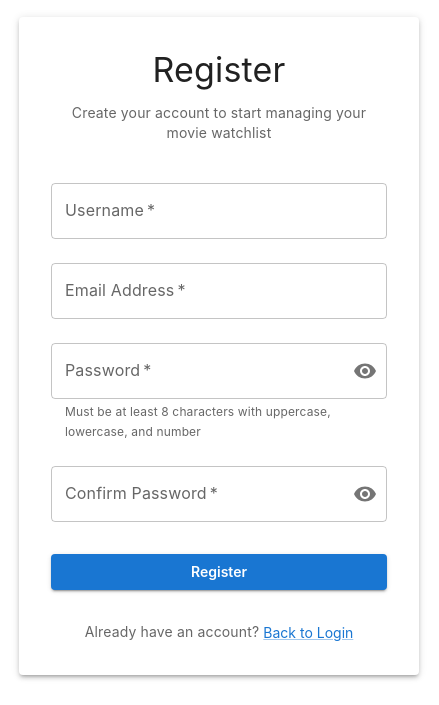
Test case: RegisterForm › should show validation error when passwords do not match
The image size is (439, 705).
Type "newuser" into the field labelled "Username *" at (219, 211), box [51,183,387,239]
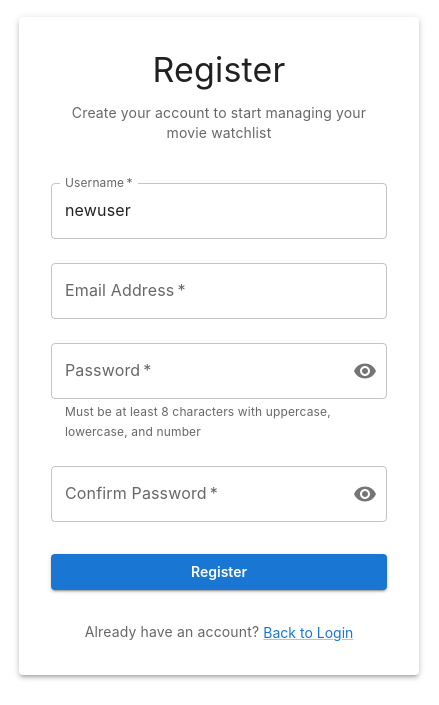
Type "newuser@example.com" into the field labelled "Email Address *" at (219, 291), box [51,263,387,319]
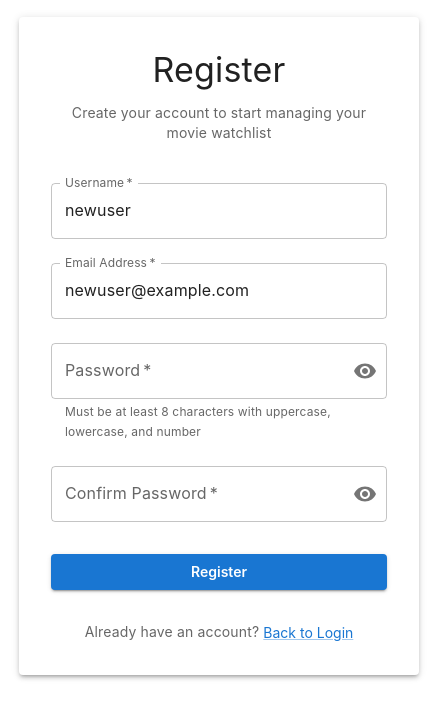
Type "Password123!" into the password field labelled "Password *" at (194, 371), box [51,343,337,399]
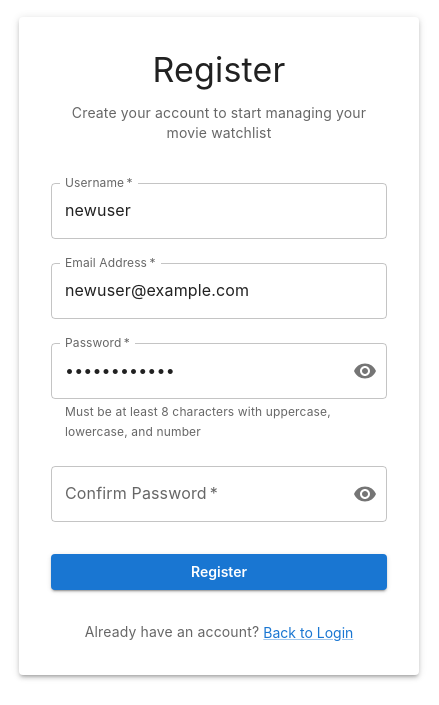
Type "DifferentPassword123!" into the password field labelled "Confirm Password *" at (194, 494), box [51,466,337,522]
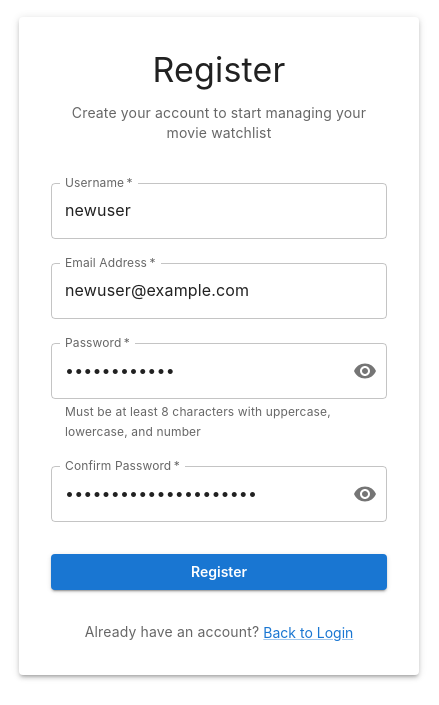
Click the button "Register" at (219, 572), box [51,554,387,590]
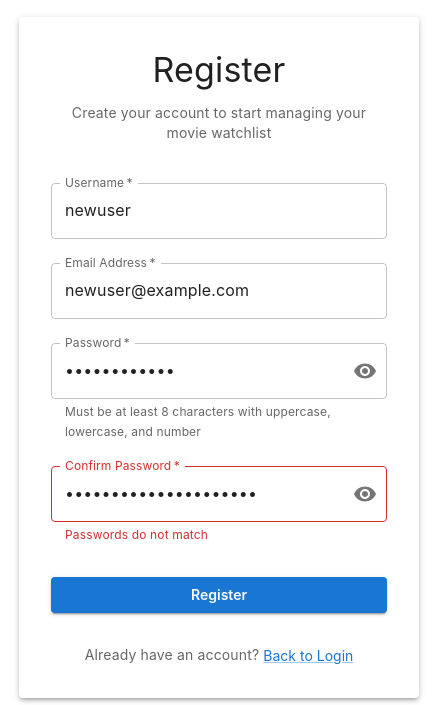
Expected: the text "Passwords do not match" is shown, [65,527,208,542]
